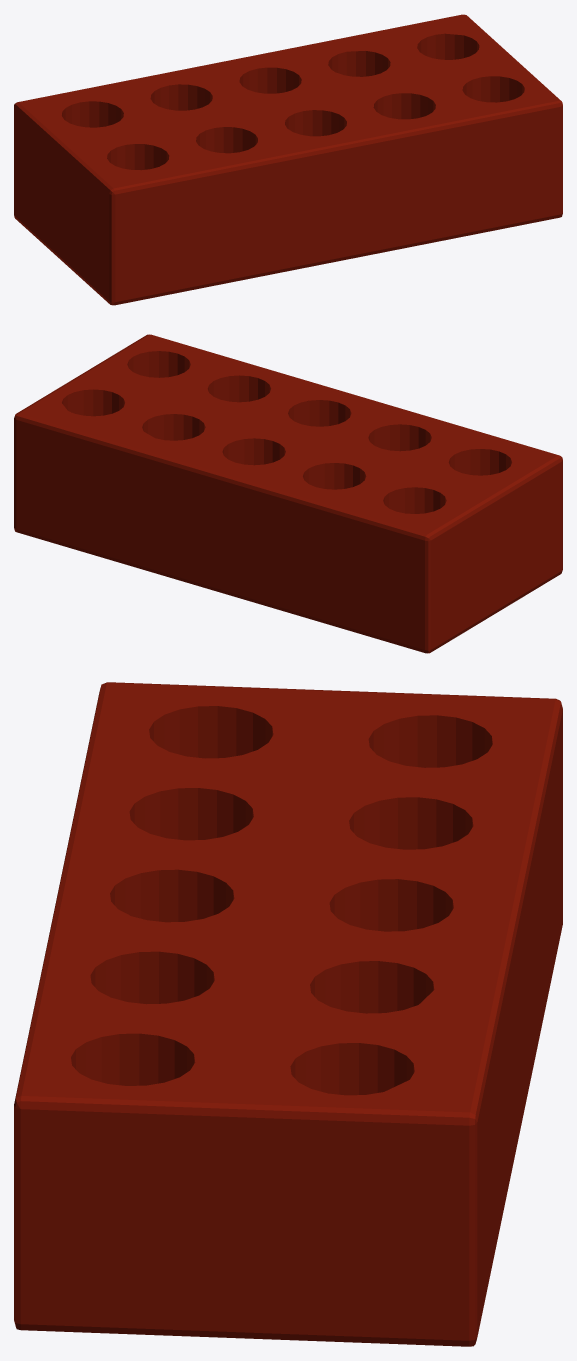
File: Brick.obj
The picture shows the model from 3 angles, top to bottom: view 1: azimuth 30°, elevation 25°; view 2: azimuth 150°, elevation 25°; view 3: azimuth 270°, elevation 25°; orthographic projection. The views are drawn at different scales.
Parts seen in each view (by area): view 1: Box001; view 2: Box001; view 3: Box001.
Part boxes in pixels (box(x1,y1,x2,y2)): Box001: box(14, 14, 562, 305); Box001: box(14, 334, 562, 653); Box001: box(14, 682, 562, 1346).
Size of the model in its own units: 611706 by 152389 by 324390.
